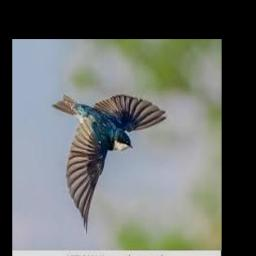Swallow: (52, 92, 167, 234)
